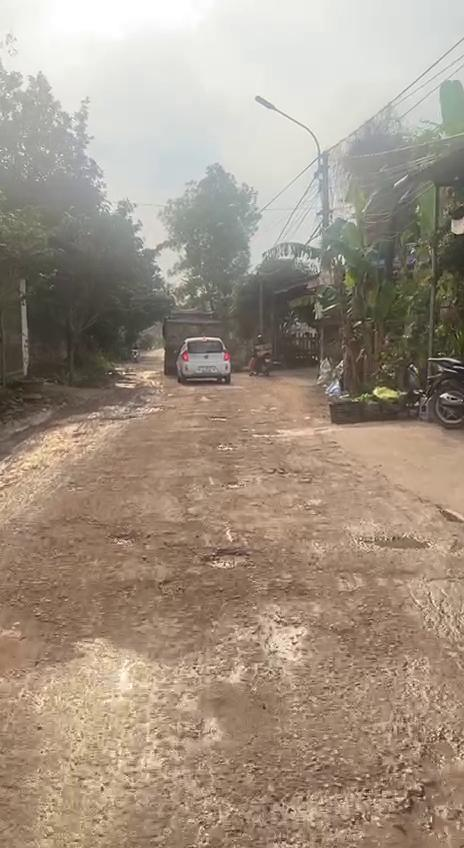pothole: (366, 745, 464, 848), (0, 589, 64, 683), (251, 611, 309, 666), (354, 532, 432, 555), (198, 545, 256, 574), (106, 531, 140, 549), (214, 442, 236, 453), (224, 481, 244, 490), (209, 414, 227, 422)
